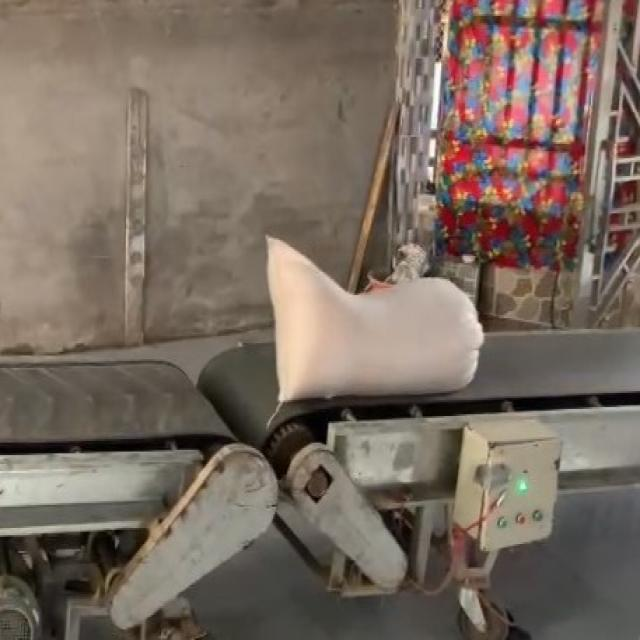gunny_bag: (267, 236, 485, 403)
